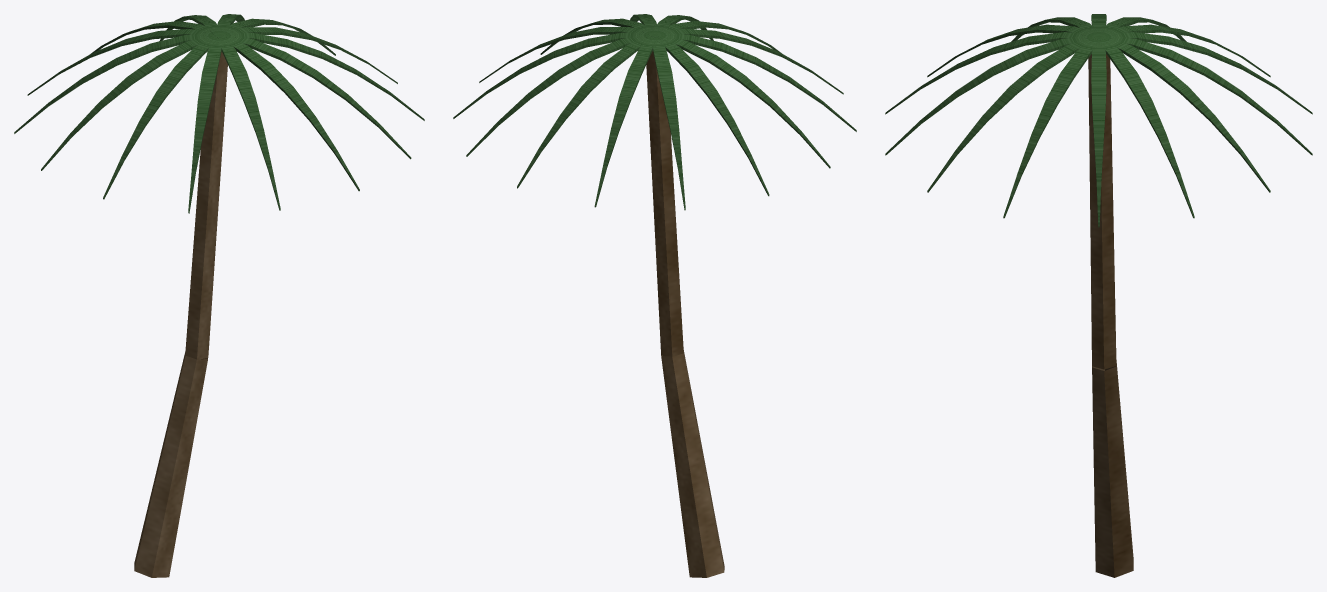
File: ambient_tree_26.glb
The picture shows the model from 3 angles, left to right: view 1: azimuth 30°, elevation 25°; view 2: azimuth 150°, elevation 25°; view 3: azimuth 270°, elevation 25°; orthographic projection. The views are drawn at different scales.
Parts seen in each view (by area): view 1: ambient_tree_26; view 2: ambient_tree_26; view 3: ambient_tree_26.
Part boxes in pixels (x1,y1,x2,y2): ambient_tree_26: (14,14,424,577); ambient_tree_26: (453,14,856,577); ambient_tree_26: (885,14,1312,577).
Bounding box in the file's own units: 8.4 × 11.93 × 8.2.
2 materials, 2 textured.
